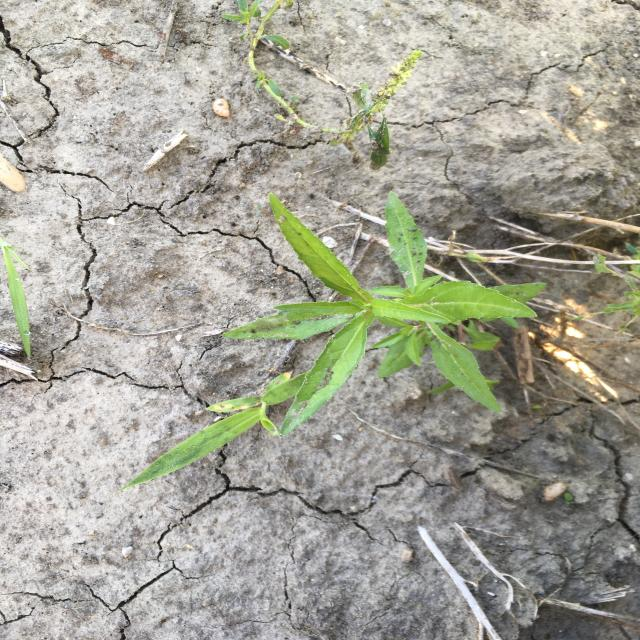Eclipta: (217, 189, 548, 437)
Waterhemp: (221, 0, 428, 172)
